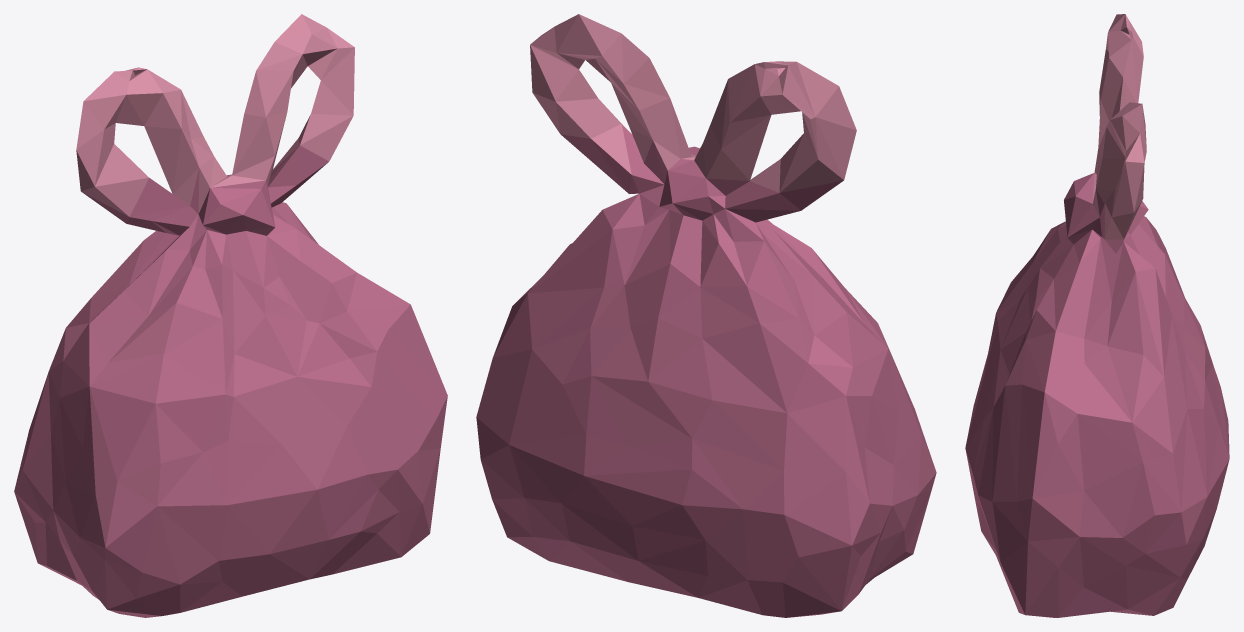
The model's file is plastic_bag.glb.
3 views of the same model, side by side, from view 1: azimuth 30°, elevation 25°; view 2: azimuth 150°, elevation 25°; view 3: azimuth 270°, elevation 25° (orthographic). The views are drawn at different scales.
Visible parts, largest first — view 1: plastic_bag; view 2: plastic_bag; view 3: plastic_bag.
Part boxes in pixels (left/top/right/bottom): plastic_bag: left=14, top=14, right=447, bottom=617; plastic_bag: left=476, top=14, right=936, bottom=617; plastic_bag: left=965, top=14, right=1229, bottom=617.
Bounding box in the file's own units: 0.28 × 0.38 × 0.18.
